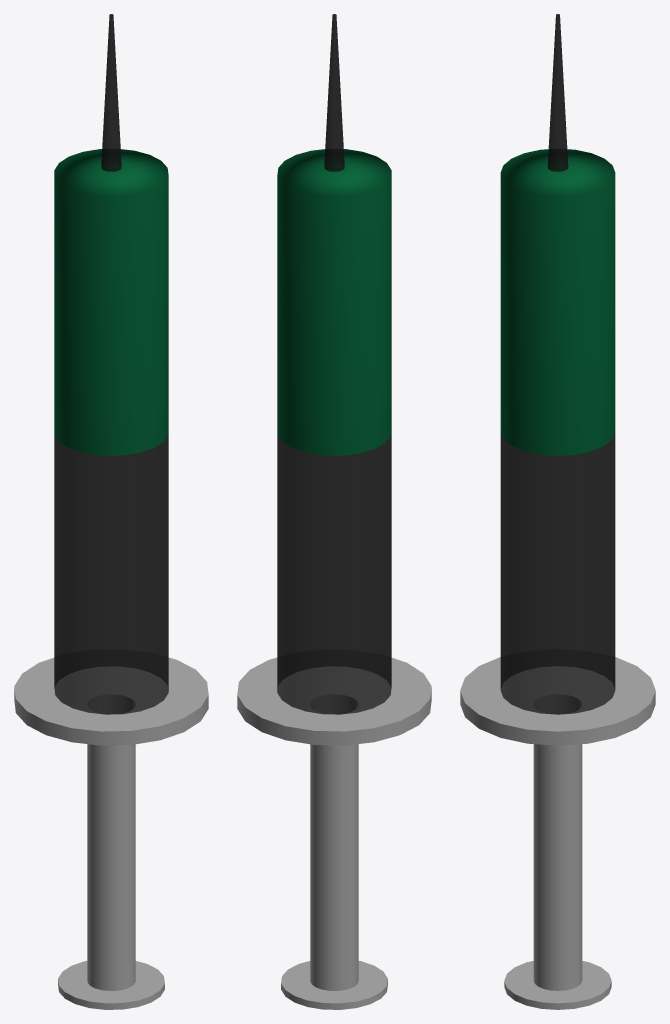
The model's file is Seringa.fbx.
3 views of the same model, side by side, from view 1: azimuth 30°, elevation 25°; view 2: azimuth 150°, elevation 25°; view 3: azimuth 270°, elevation 25° (orthographic).
Parts seen in each view (by area): view 1: pCylinder1; view 2: pCylinder1; view 3: pCylinder1.
Boxes of the visible parts, box(x1,y1,x2,y2) form: pCylinder1: box(14, 14, 208, 1009); pCylinder1: box(237, 14, 431, 1009); pCylinder1: box(460, 14, 655, 1009).
Bounding box in the file's own units: 4.23 × 23.21 × 4.23.
